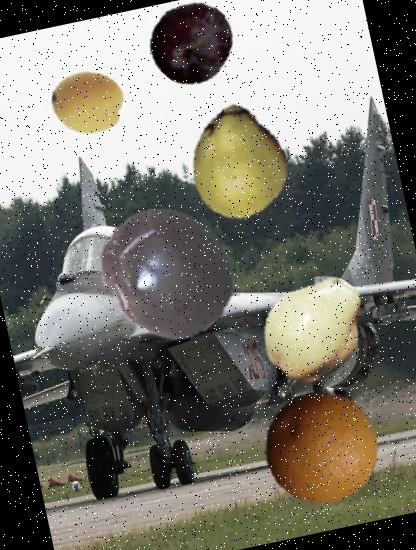Orange: (251, 376, 391, 516)
Passion: (82, 189, 250, 356)
Peach: (45, 60, 130, 145)
Plum: (141, 0, 242, 93)
Quince: (245, 261, 384, 400), (171, 96, 305, 230)
